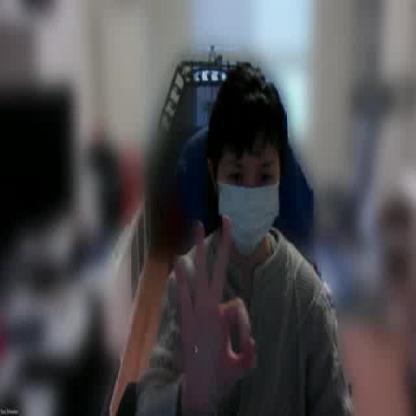nine: (171, 208, 257, 408)
